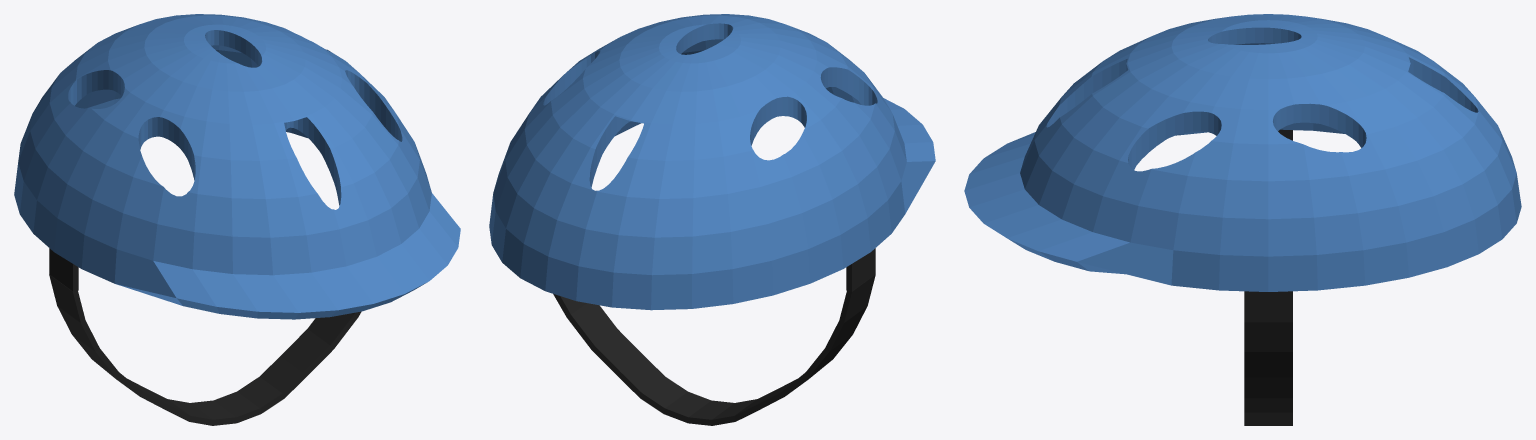
File: CapaceteCinta.fbx
3 renders of one model, left to right at view 1: azimuth 30°, elevation 25°; view 2: azimuth 150°, elevation 25°; view 3: azimuth 270°, elevation 25°, orthographic. The views are drawn at different scales.
Visible parts, largest first — view 1: Sphere.003; view 2: Sphere.003; view 3: Sphere.003.
Boxes of the visible parts, <box> form: Sphere.003: <box>14,14,460,425</box>; Sphere.003: <box>489,14,935,425</box>; Sphere.003: <box>964,14,1521,425</box>.
Bounding box in the file's own units: 239 × 249 × 331.
